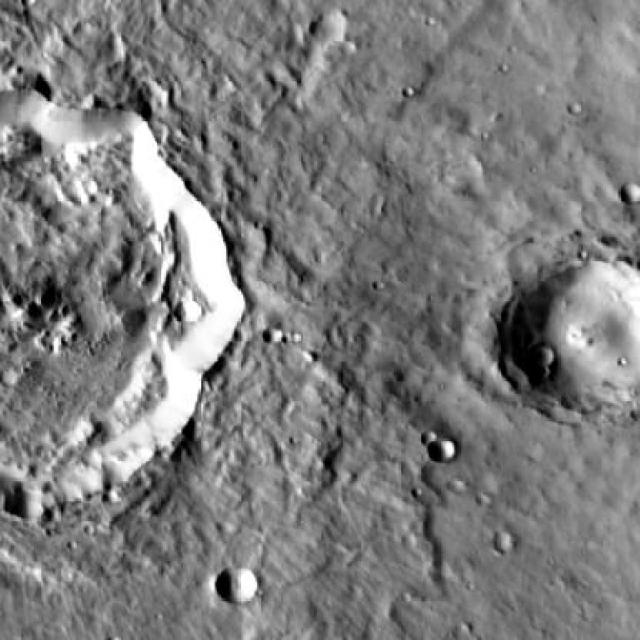crater: (0, 89, 243, 508), (503, 251, 640, 409), (311, 4, 357, 45), (219, 566, 263, 606), (433, 435, 461, 459), (533, 348, 558, 370), (182, 292, 207, 313), (493, 531, 515, 551), (620, 185, 637, 206), (446, 477, 465, 494), (261, 329, 279, 346)
